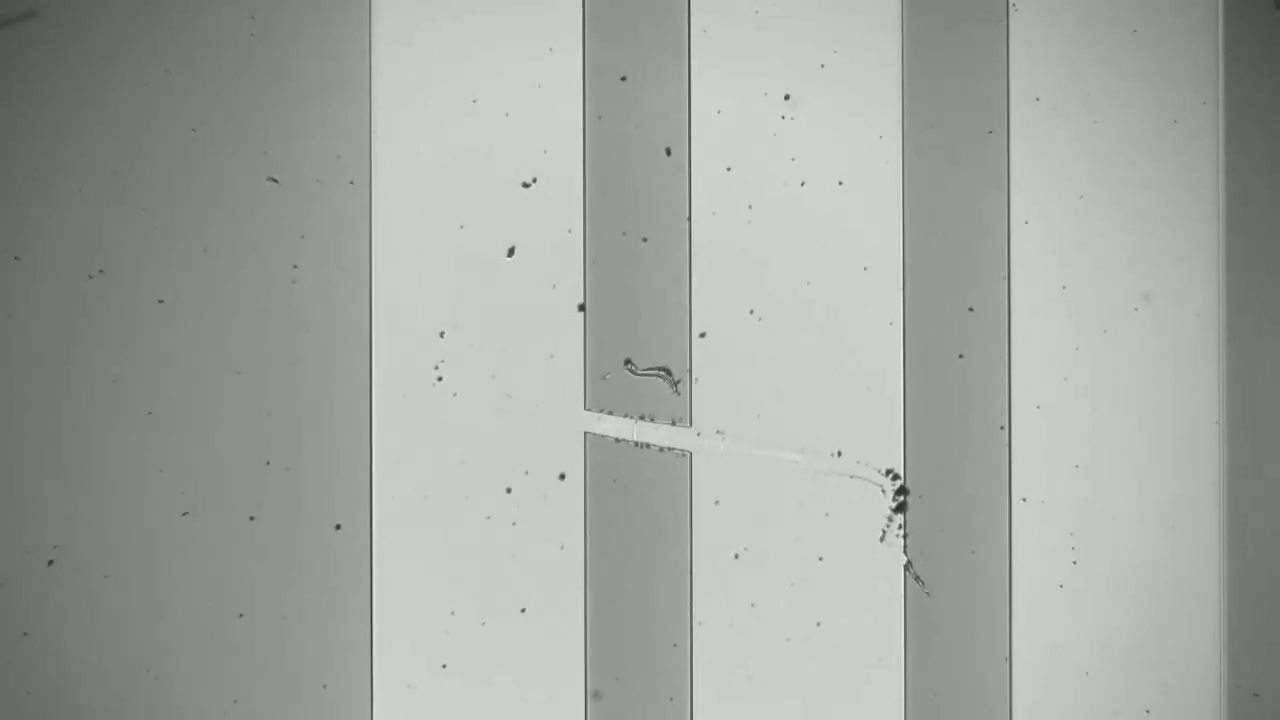Short_circuit: (543, 392, 719, 471)
